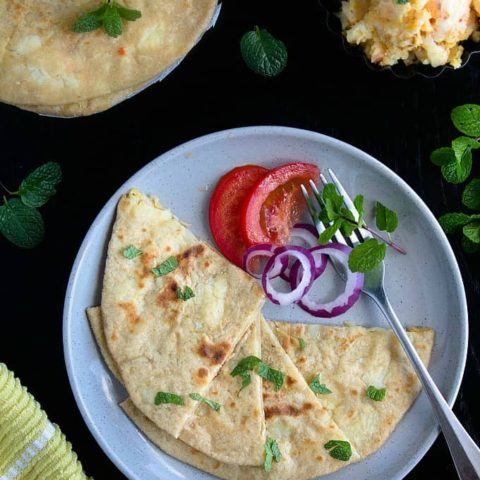aloo_paratha: (89, 190, 432, 480), (1, 5, 229, 124)
